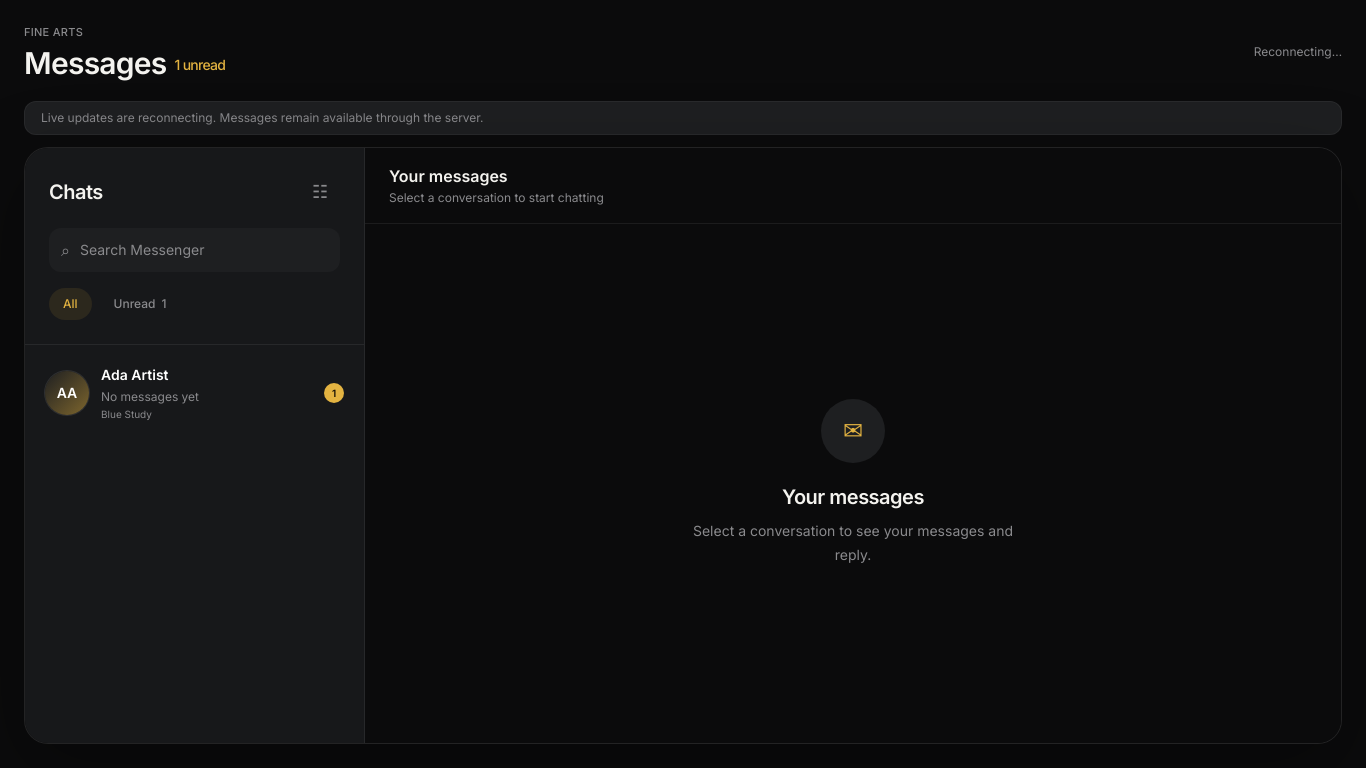
Test: Messages page › has a searchable, keyboard-operable emoji picker
This screenshot has width=1366, height=768.
Click the button "AA Ada Artist No messages yet Blue Study 1".
click(194, 393)  # box [33,352,356,434]
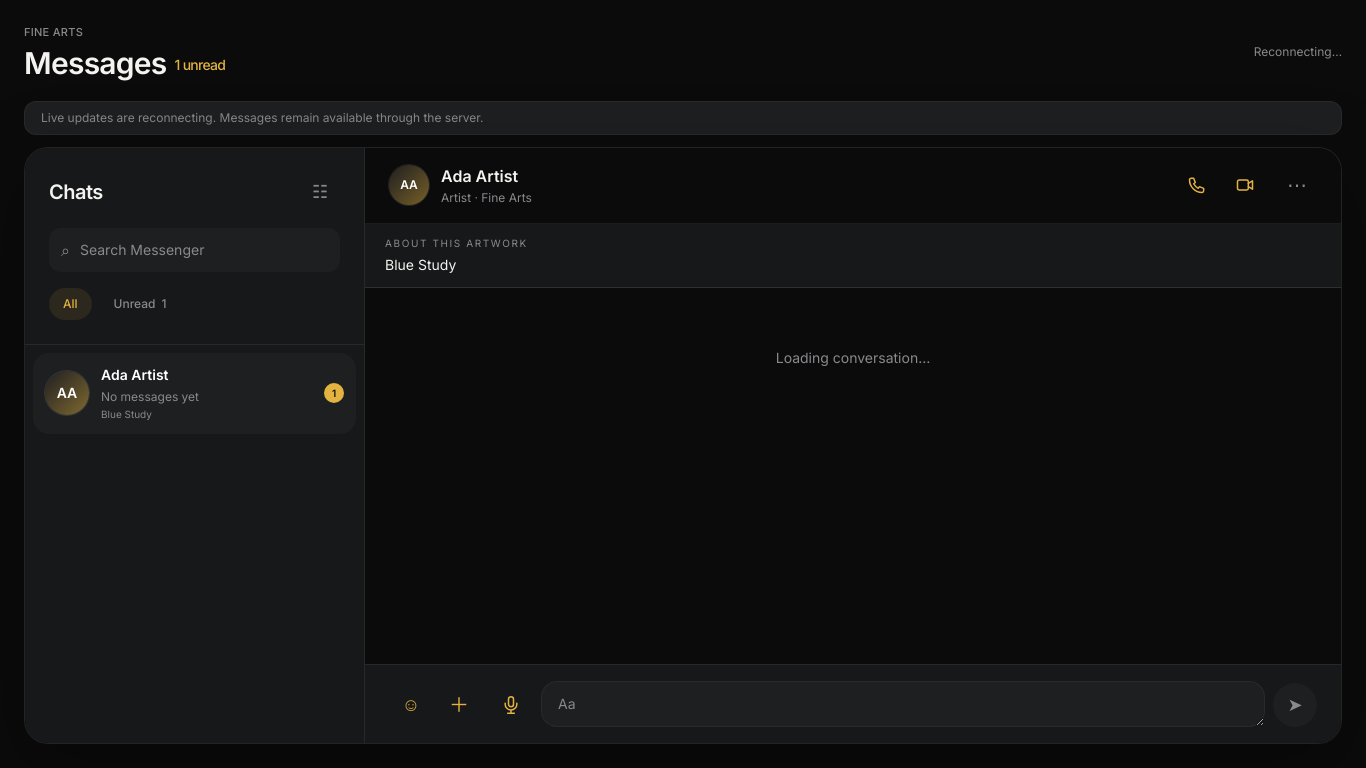
Expected: the text box named "Write a message" is shown, [541,681,1265,727]
Click the button named "Add emoji".
click(411, 705)  # box [389,683,433,727]
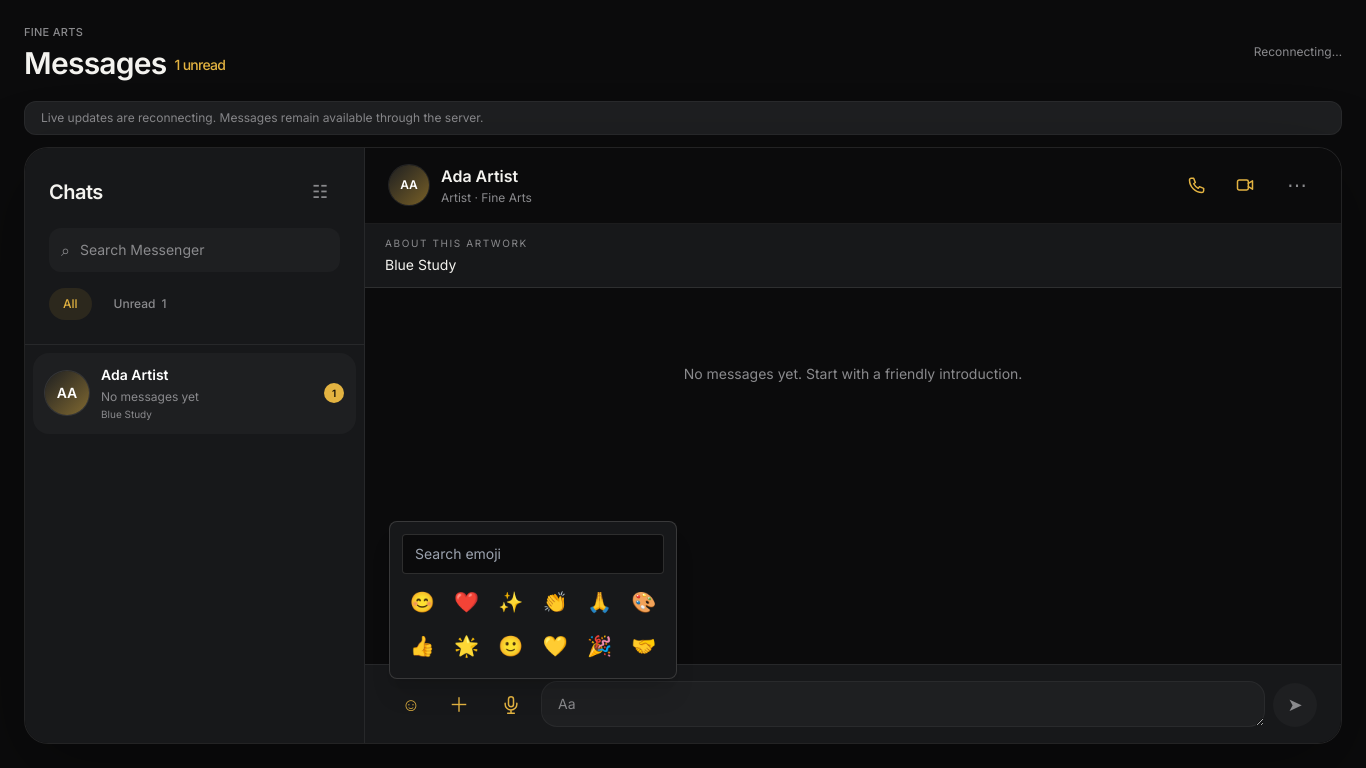
Type "heart" into the field labelled "Search emoji".
click(533, 554); type("heart")  # box [402,534,664,574]
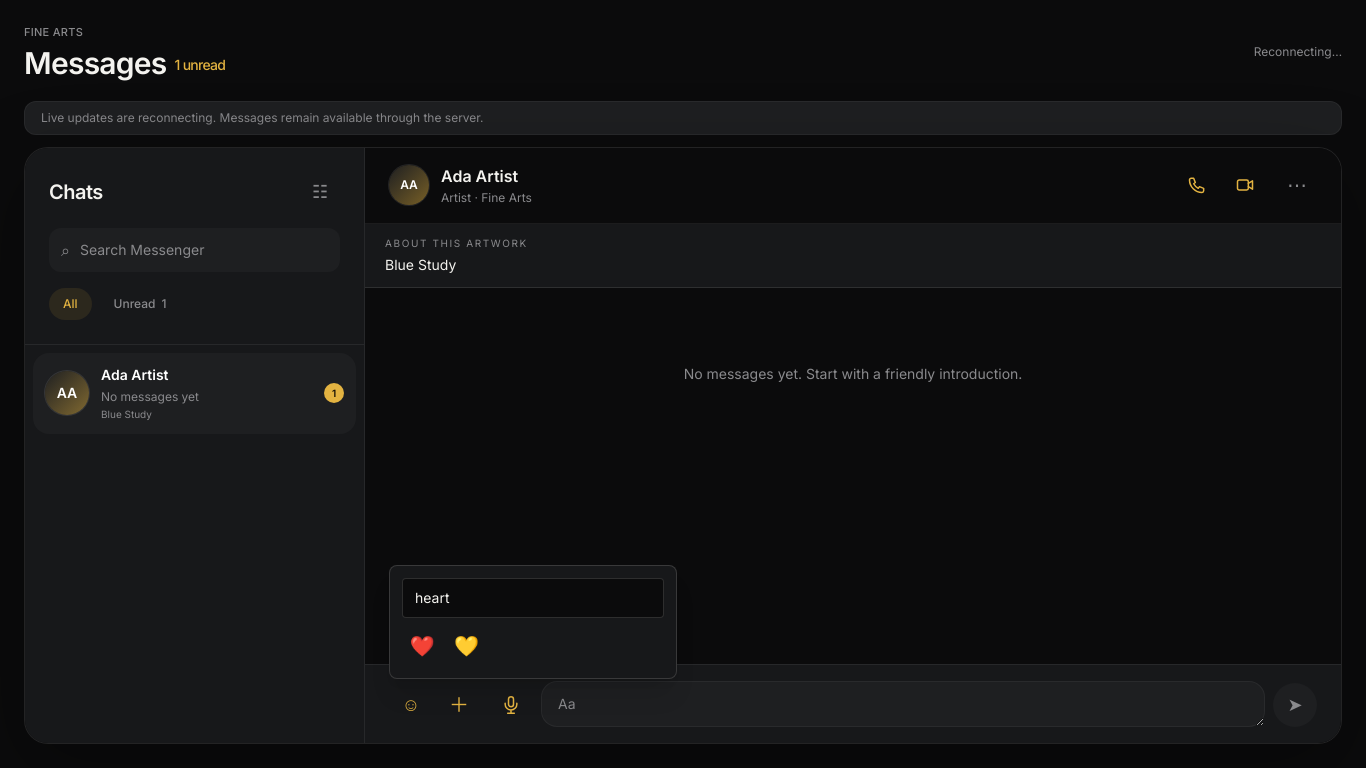
Click the button named "heart emoji".
click(422, 646)  # box [402,626,442,666]
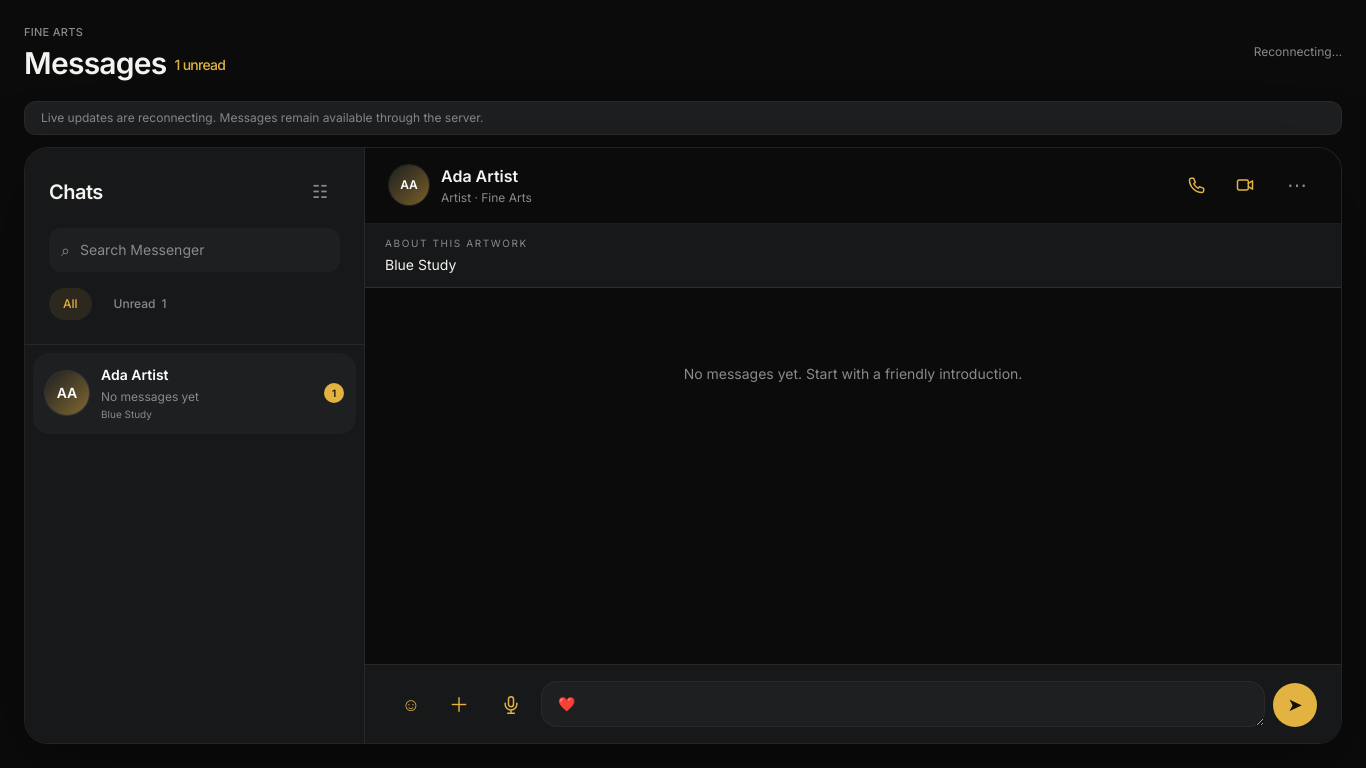
Expected: the text box named "Write a message" holds "❤️", [541,681,1265,727]
